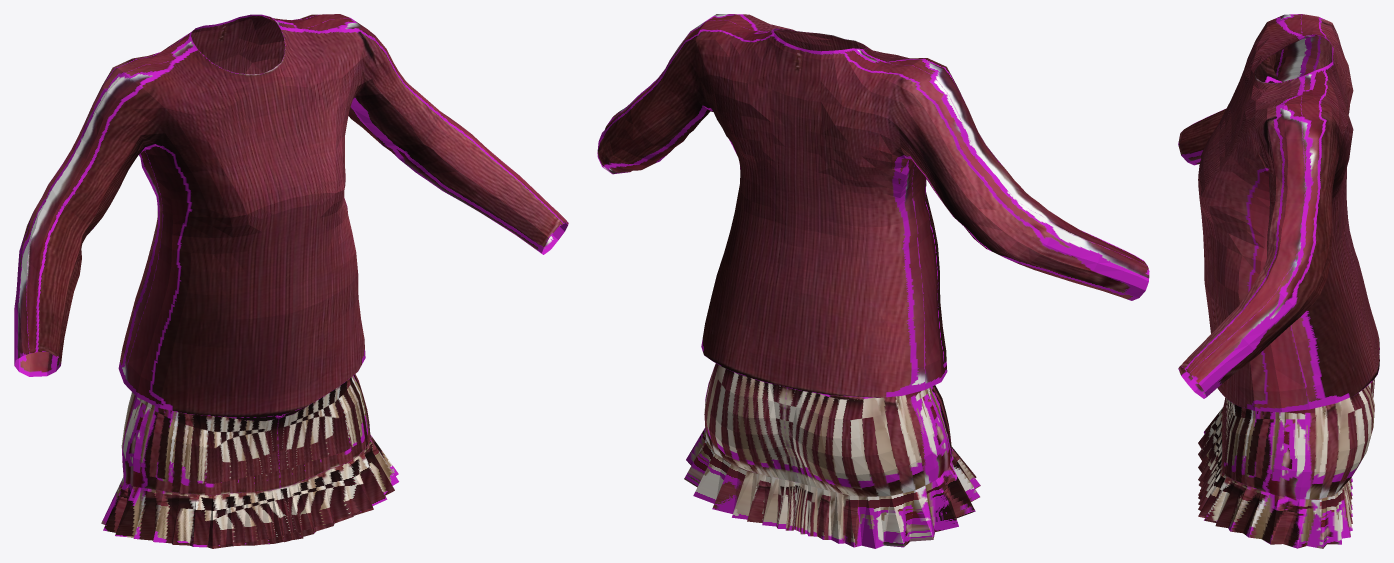
The picture shows the model from 3 angles, left to right: view 1: azimuth 30°, elevation 25°; view 2: azimuth 150°, elevation 25°; view 3: azimuth 270°, elevation 25°; orthographic projection. The views are drawn at different scales.
Bounding box in the file's own units: 1.16 × 0.9675 × 0.3909.
1 material, 1 textured.
